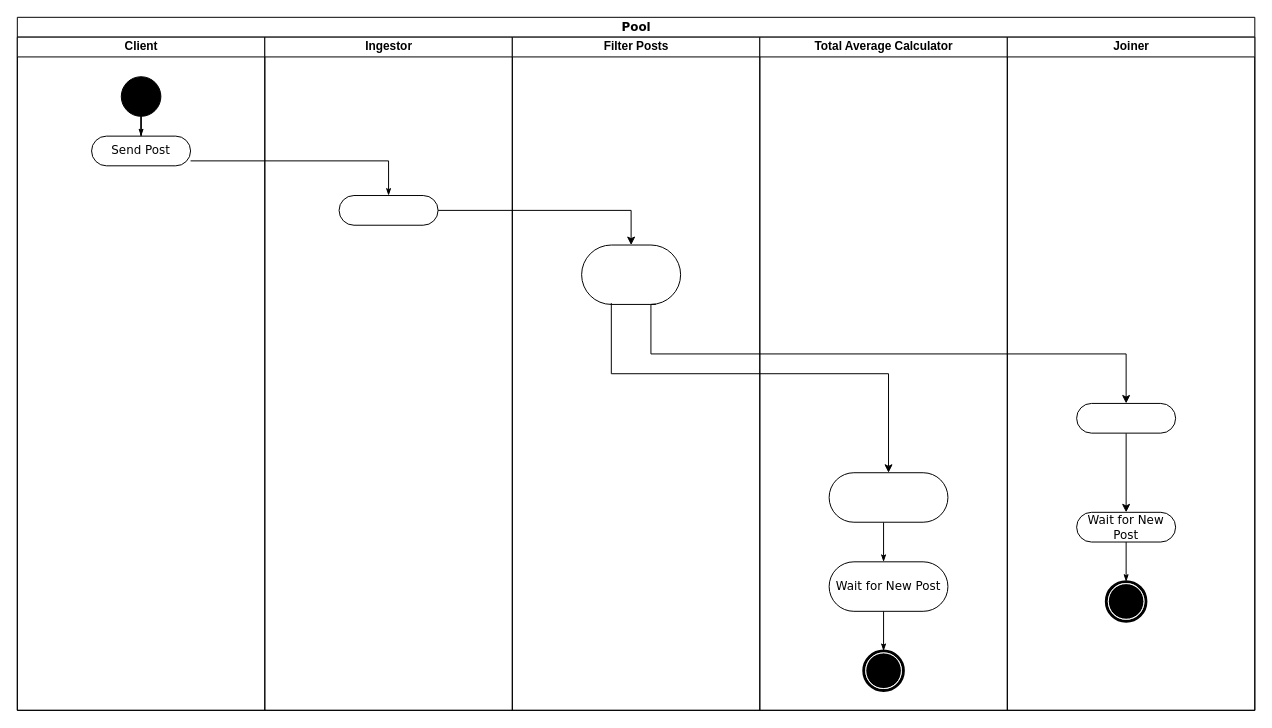
Image size: 1272x728. Some labels were removed from this diagram. The centre of each missing label's shape, as x and y in pixels:
"Compute as partial average" belongs at pixel 888 497.
"Ingest Post" belongs at pixel 388 210.
"Save for Joining" belongs at pixel 1126 417.
"Validate and filter posts fields" belongs at pixel 631 274.
